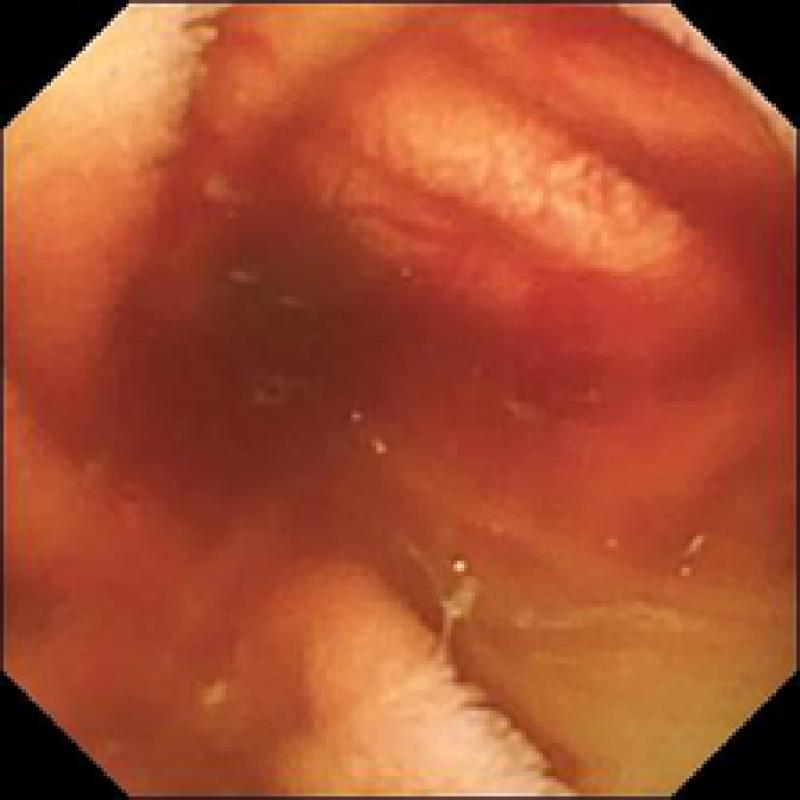bleeding: (18, 4, 800, 768)
